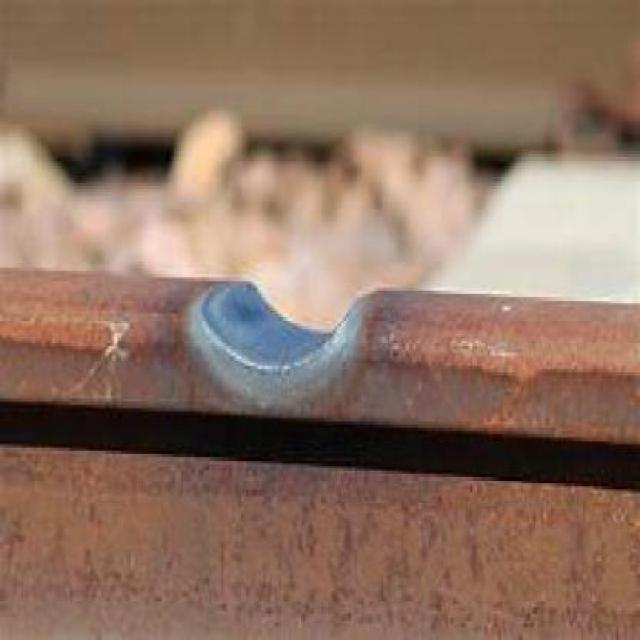defective: (167, 232, 445, 472)
